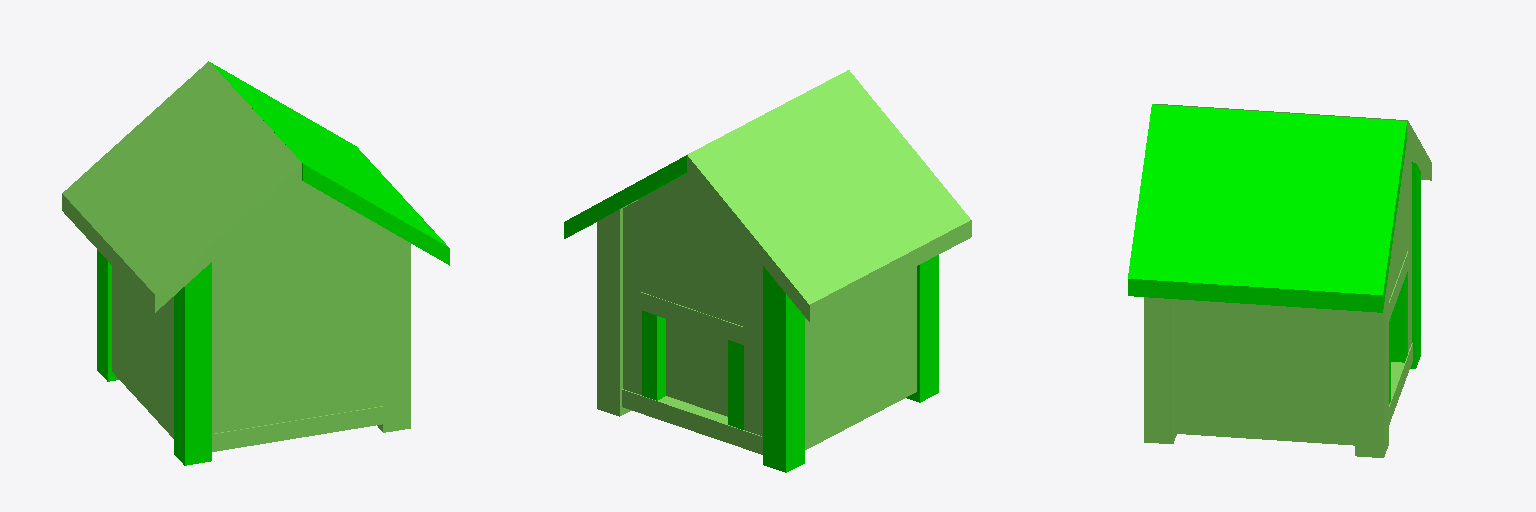
Rendered from MYTurkeyHouse.obj.
3 views of the same model, side by side, from view 1: azimuth 30°, elevation 25°; view 2: azimuth 150°, elevation 25°; view 3: azimuth 270°, elevation 25° (orthographic).
Visible parts, largest first — view 1: MYTurkeyHouse; view 2: MYTurkeyHouse; view 3: MYTurkeyHouse.
Boxes of the visible parts, x1,y1,x2,y2 form: MYTurkeyHouse: [62, 61, 449, 465]; MYTurkeyHouse: [564, 70, 971, 472]; MYTurkeyHouse: [1128, 104, 1431, 457].
Bounding box in the file's own units: 1.79 × 1.62 × 1.55.